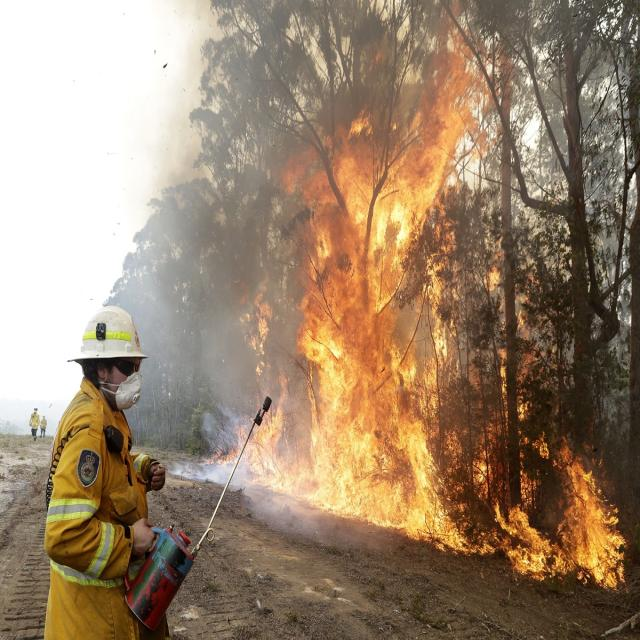fire: (298, 176, 456, 548), (555, 450, 634, 588), (491, 498, 549, 584)
